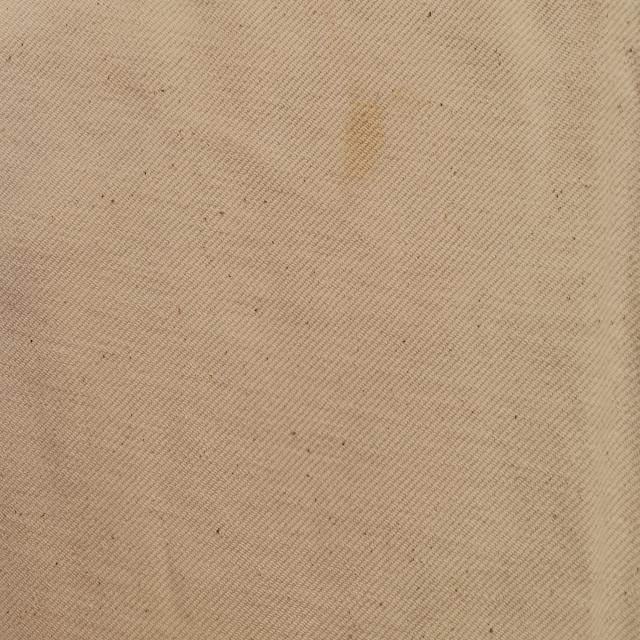taaaches: (328, 64, 395, 200)
